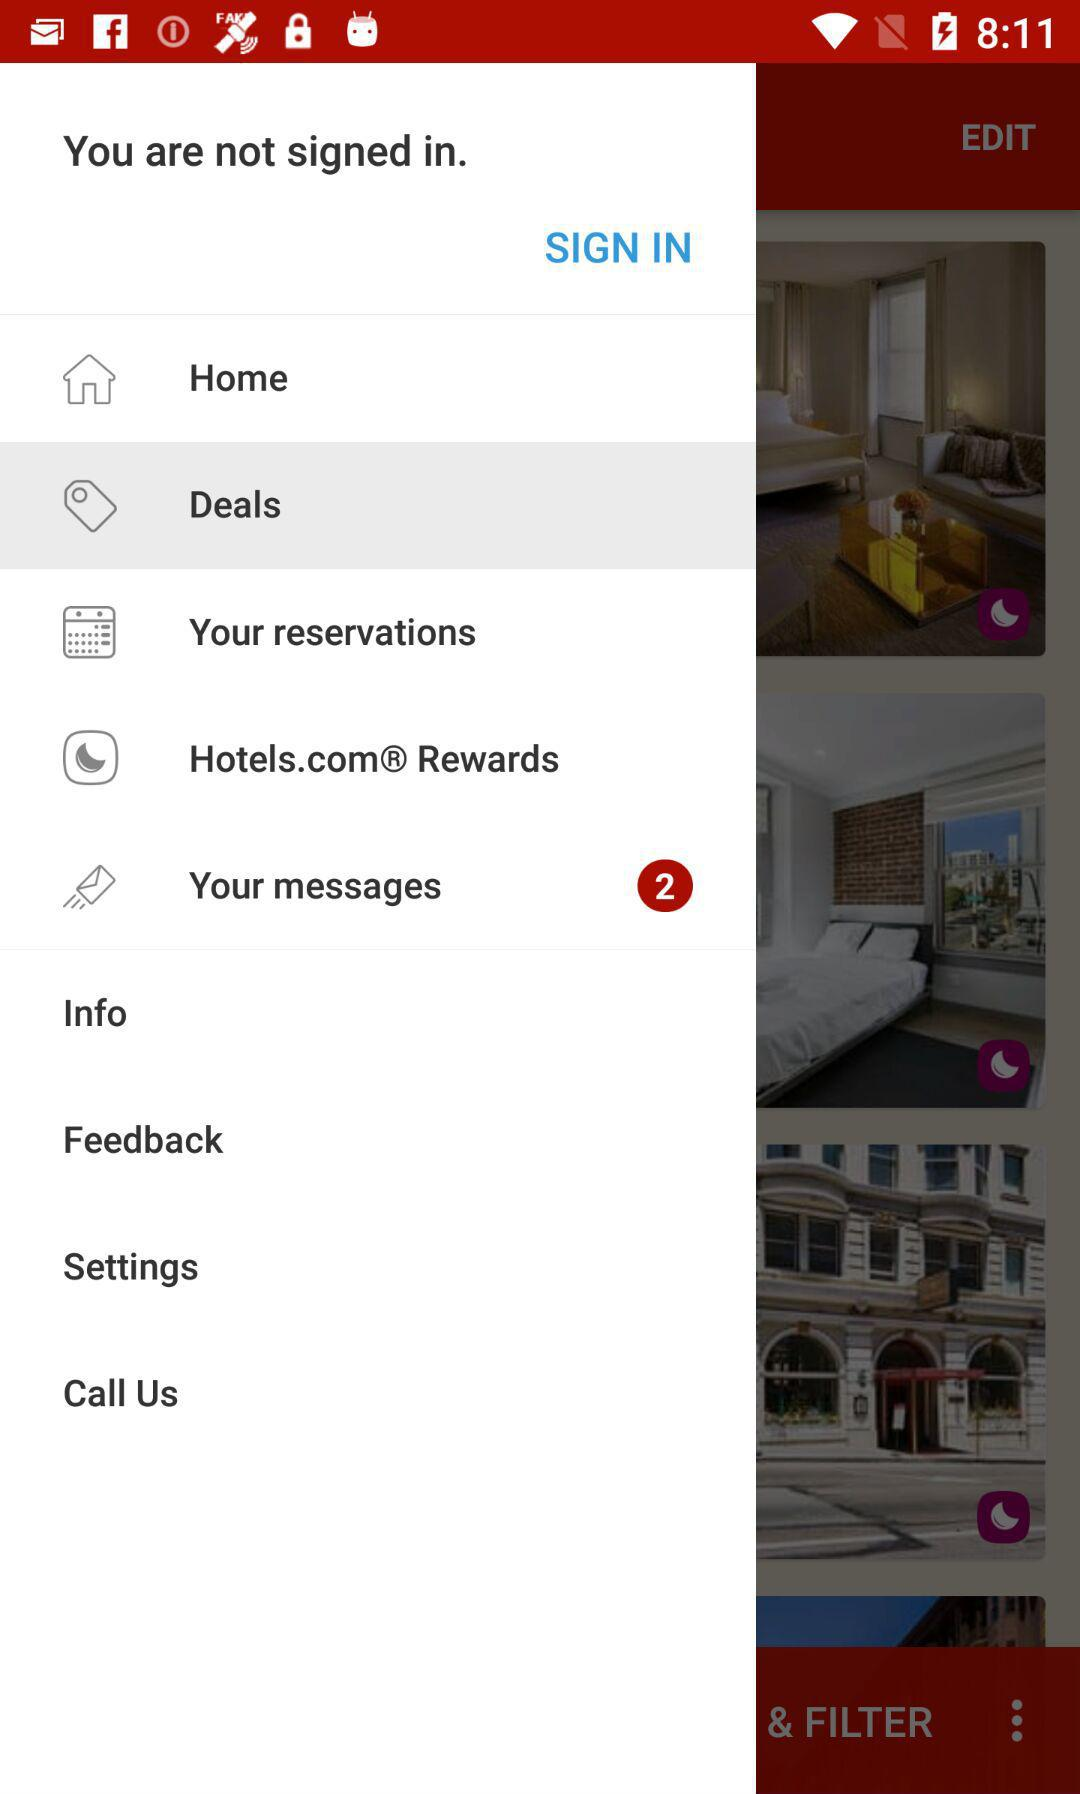Drawer: (1, 64, 756, 1794)
Icon: (63, 606, 118, 660), (64, 481, 119, 534), (63, 352, 118, 406), (63, 864, 118, 911), (1010, 1698, 1022, 1741)
Image: (637, 859, 694, 914), (63, 730, 120, 786)
Text: (63, 135, 468, 177), (191, 743, 560, 775), (190, 871, 442, 909), (190, 618, 477, 648), (767, 1707, 933, 1740), (544, 231, 692, 267), (64, 1251, 199, 1289), (65, 1124, 225, 1155), (64, 1378, 179, 1410), (191, 364, 290, 393), (191, 490, 282, 520), (963, 124, 1036, 152), (67, 997, 128, 1028)
UpperTaskBar: (1, 1, 1080, 64)
